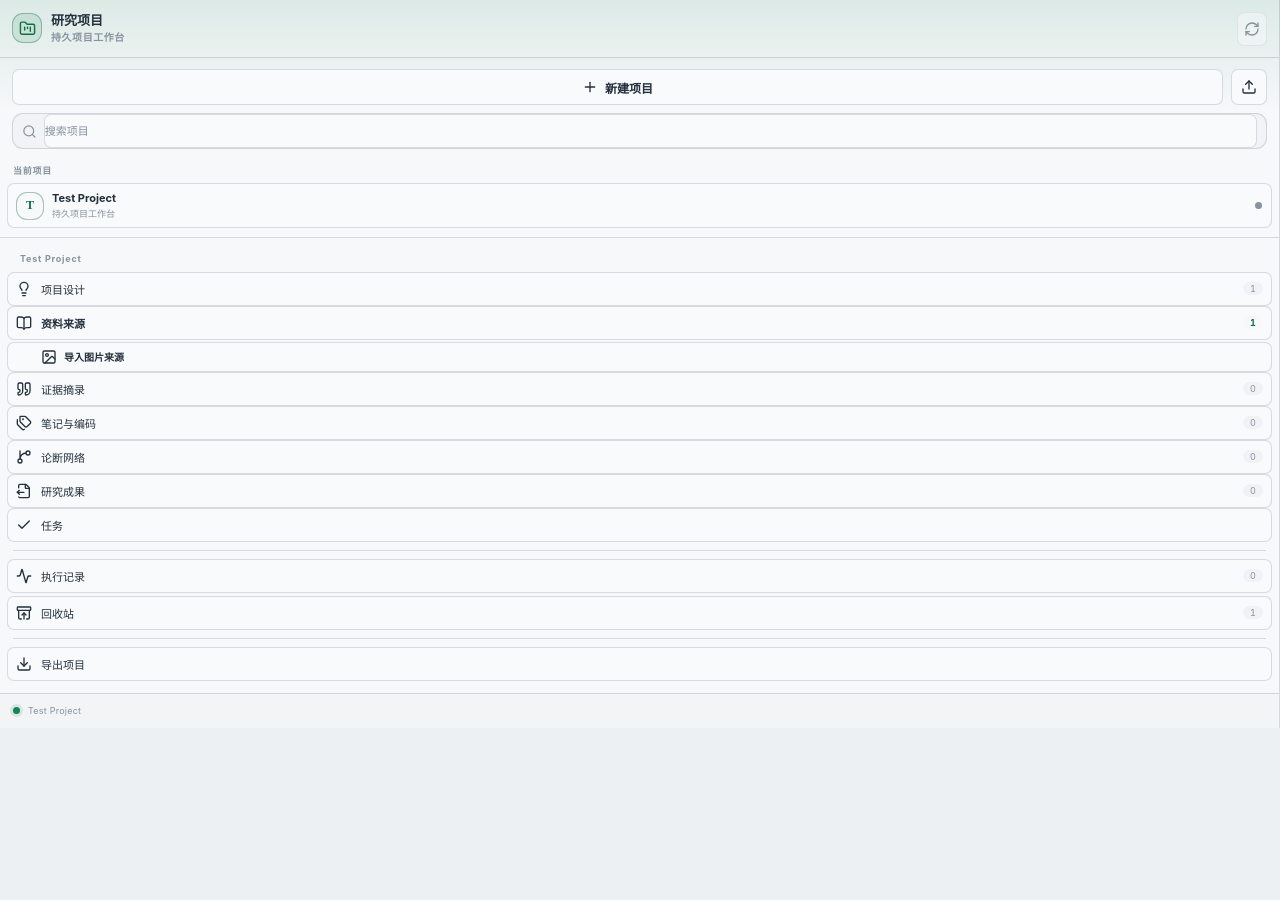
MEDIA-304 Phase B — ProjectWorkspaceSidebar image import › fails closed and shows an error for unsupported MIME types
The image size is (1280, 900).
Click the button "导入图片来源": (94, 357) [7,342,1272,372]
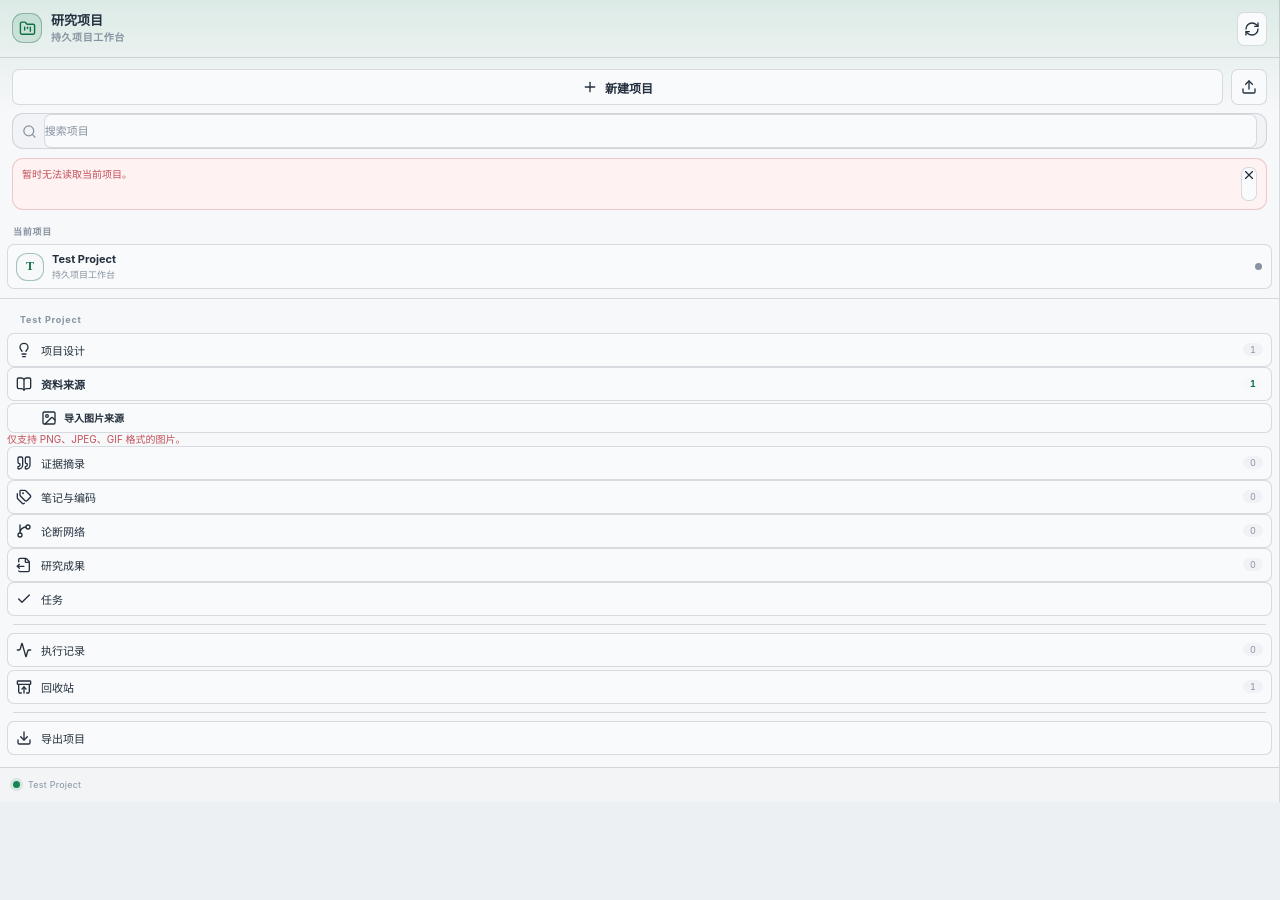
Check: the message "仅支持 PNG、JPEG、GIF 格式的图片。" is shown, box [7,433,186,445]
